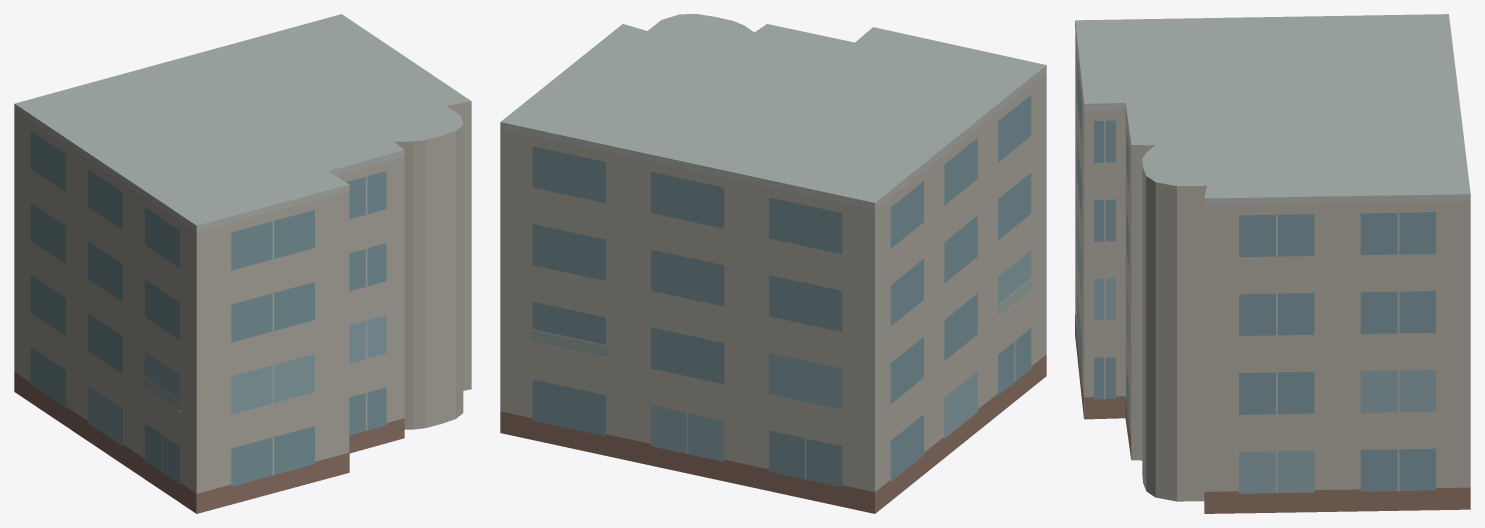
The model's file is survey-upis-32734292.glb.
3 views of the same model, side by side, from view 1: azimuth 30°, elevation 25°; view 2: azimuth 150°, elevation 25°; view 3: azimuth 270°, elevation 25° (orthographic). The views are drawn at different scales.
Visible parts, largest first — view 1: survey-upis-32734292.tmp; view 2: survey-upis-32734292.tmp; view 3: survey-upis-32734292.tmp.
Part boxes in pixels (box(x1,y1,x2,y2)): survey-upis-32734292.tmp: box(14, 14, 471, 513); survey-upis-32734292.tmp: box(500, 14, 1046, 513); survey-upis-32734292.tmp: box(1075, 14, 1470, 513).
Size of the model in its own units: 13.31 by 10.6 by 12.06.
